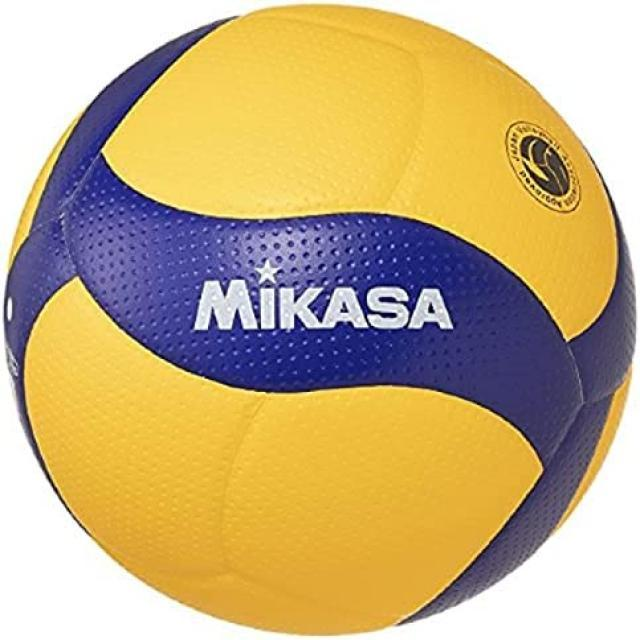volleyball: (4, 2, 636, 636)
